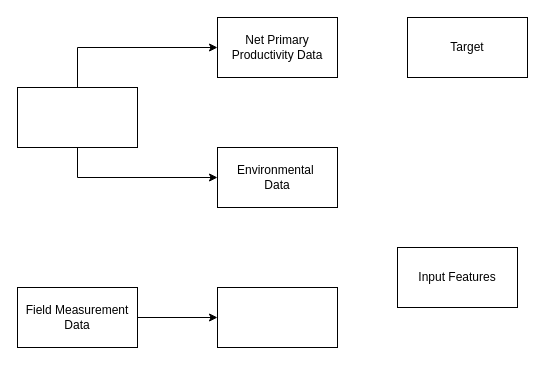
Some shapes in this 545 by 365 pixel diagram are drawn without their labels. The shapes that lost their labels are listed below. From the top down, each one's centre as x and y in pixels, then its label:
(x=77, y=117): Remote Sensing Data
(x=277, y=317): Functional Diversity Data
